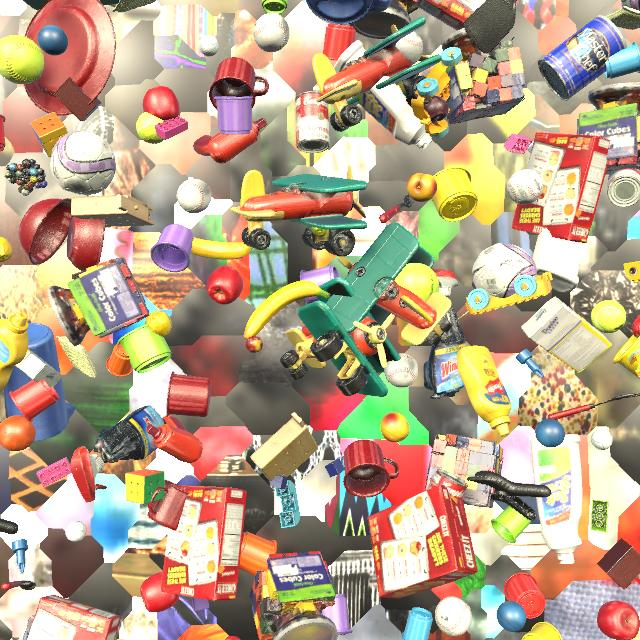ycb_002_master_chef_can: (538, 15, 627, 101)
ycb_003_cracker_box: (368, 484, 478, 599), (511, 132, 610, 243), (160, 485, 247, 601), (27, 595, 121, 640), (415, 0, 486, 31)
ycb_004_sugar_box: (521, 297, 612, 373), (15, 349, 62, 388)
ycb_005_tomato_soup_can: (295, 91, 329, 153), (426, 468, 468, 499), (607, 168, 640, 207)
ycb_006_mustard_bottle: (457, 346, 511, 437), (0, 312, 29, 392)
ycb_008_pudding_box: (636, 574, 640, 579)
ycb_011_banana: (244, 280, 330, 340), (191, 237, 253, 260)
ycb_012_strawberry: (632, 315, 640, 338), (225, 636, 240, 640)
ycb_013_apple: (597, 600, 640, 640), (140, 572, 179, 613), (206, 266, 243, 305), (143, 86, 180, 120)
ycb_014_lemon: (145, 311, 172, 337), (0, 237, 12, 262)
ycb_015_peach: (380, 412, 410, 443), (407, 173, 437, 202)
ycb_016_pear: (306, 225, 327, 237), (115, 637, 117, 640)
ycb_017_orange: (0, 415, 36, 451)
ycb_018_plum: (424, 96, 449, 123)
